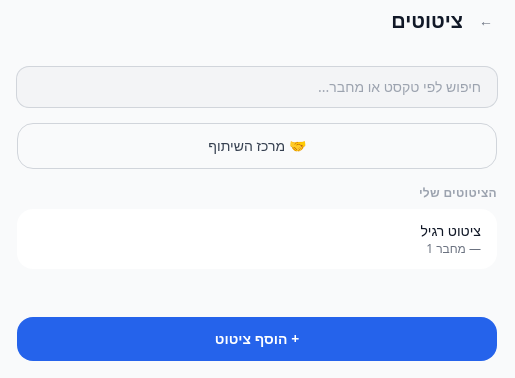
Scenario: Citations Sections by Creator › shows global empty state when no section has matches during search
Expected: the heading "הציטוטים שלי" is shown, x1=419 y1=184 x2=497 y2=201
Type "אין תוצאה" into the field with placeholder "חיפוש לפי טקסט או מחבר...". click: [257, 87]
box: x1=17 y1=67 x2=497 y2=107
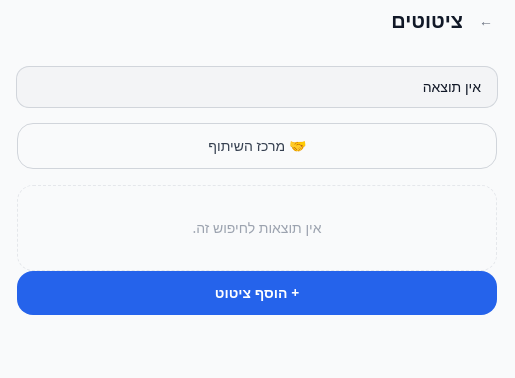
Now the text "אין תוצאות לחיפוש זה." is shown, box x1=17 y1=185 x2=497 y2=271
